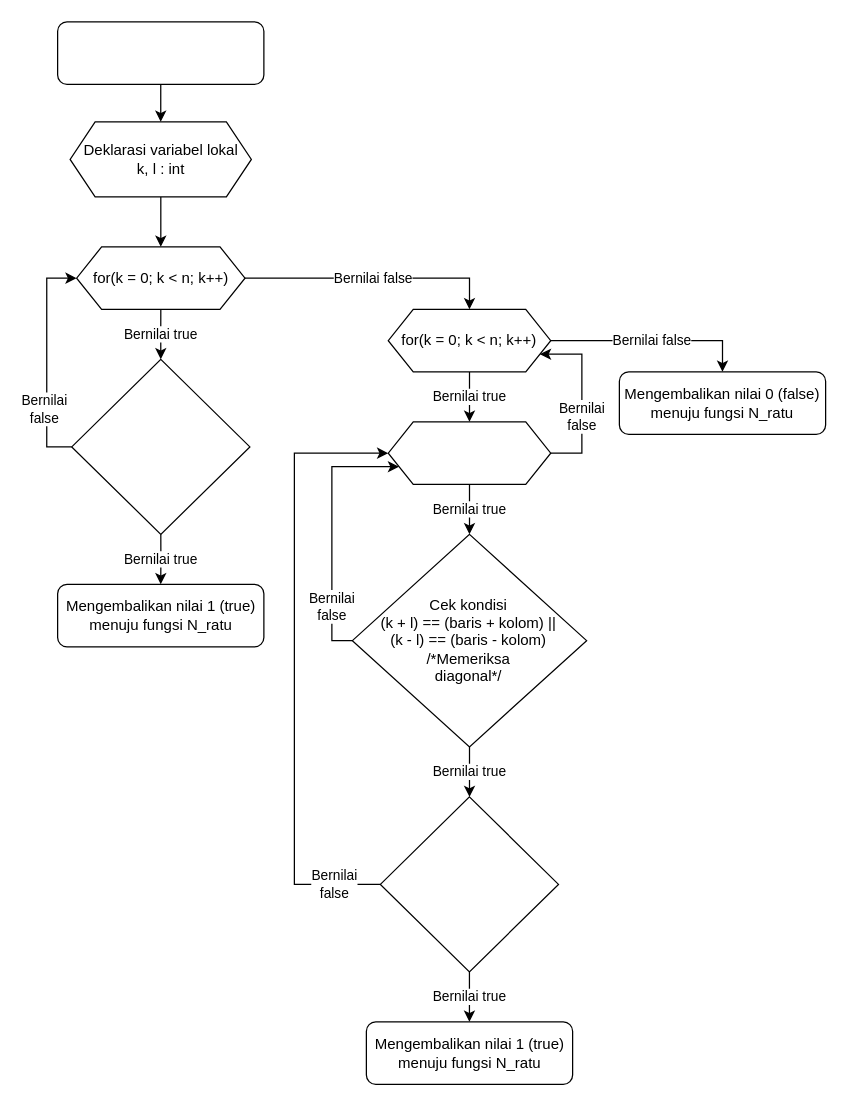
The diagram is 848 pixels wide and 1106 high, and some of its shapes have lost their labels. Each missing label, with the centre of its shape:
"Cek kondisi papan[k][kolom] == 1 /*Memeriksa kolom*/" goes at [160,446].
"Cek kondisi papan[k][l] == 1 /*Memeriksa diagonal yang berisi ratu*/" goes at [468,884].
"for(l = 0; l < N; l++)" goes at [469,452].
"Fungsi apakah_diserang(int baris, int kolom)" goes at [160,52].
